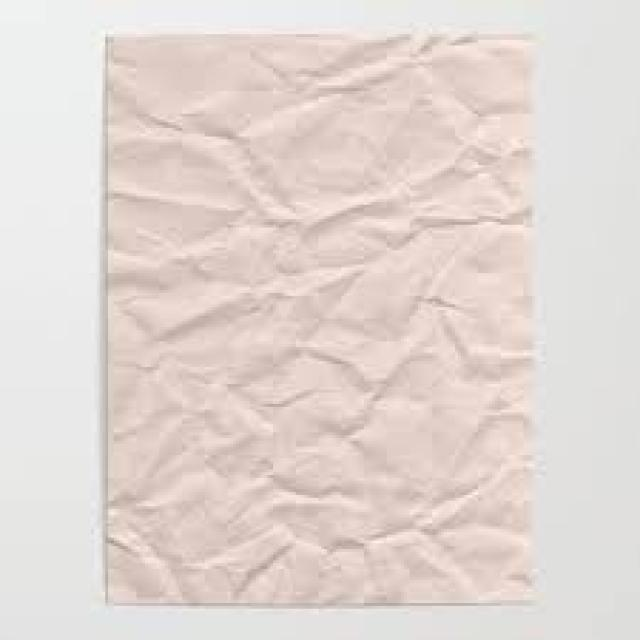paper: (100, 23, 526, 603)
